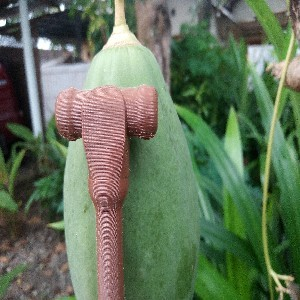palu: (55, 82, 158, 300)
